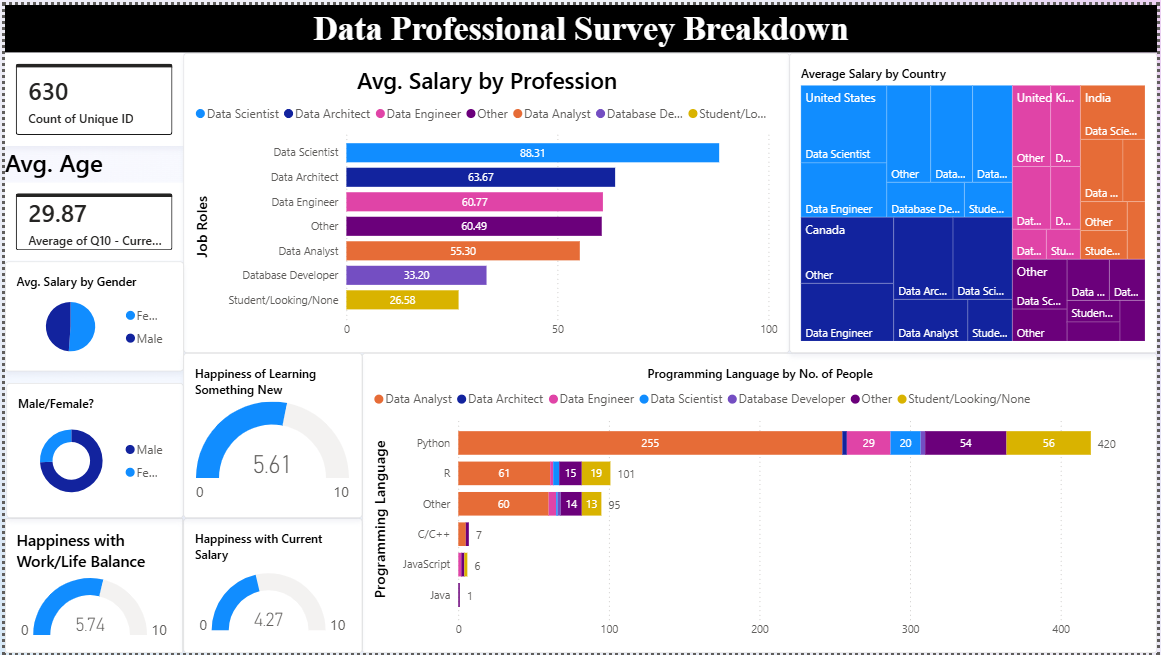

The dashboard page shown, as its layout file describes it:
{"tool":"powerbi","page":{"name":"Page 1","canvas":[1280,720],"ordinal":0},"visuals":[{"type":"textbox","box":[0,0,1280,52.9],"z":0},{"type":"cardVisual","fields":{"Data":["Count(Data Professional Survey.Unique ID)"]},"box":[0,53.3,198.3,103.3],"z":1000},{"type":"cardVisual","title":"Avg. Age","fields":{"Data":["Avg(Data Professional Survey.Q10 - Current Age)"]},"box":[0,156.7,198.3,128.3],"z":2000},{"type":"barChart","title":"Avg. Salary by Profession","fields":{"Category":["Data Professional Survey.Q1 - Which Title Best Fits your Current Role?.1"],"Y":["Avg(Data Professional Survey.Avg. Salary)"],"Series":["Data Professional Survey.Q1 - Which Title Best Fits your Current Role?.1"]},"box":[198.3,53.3,673.3,333.3],"z":3000},{"type":"barChart","title":"Programming Language by No. of People","fields":{"Category":["Data Professional Survey.Q5 - Favorite Programming Language.1"],"Y":["CountNonNull(Data Professional Survey.Unique ID)"],"Series":["Data Professional Survey.Q1 - Which Title Best Fits your Current Role?.1"]},"box":[396.7,386.7,883.3,333.3],"z":3001},{"type":"treemap","title":"Average Salary by Country","fields":{"Group":["Data Professional Survey.Q11 - Which Country do you live in?.1"],"Details":["Data Professional Survey.Q1 - Which Title Best Fits your Current Role?.1"],"Values":["Avg(Data Professional Survey.Avg. Salary)"]},"box":[871.7,53.3,408.3,333.3],"z":3002},{"type":"gauge","title":"Happiness with Work/Life Balance","fields":{"MaxValue":["Max(Data Professional Survey.Q6 - How Happy are you in your Current Position with the following? (Work/Life Balance))"],"Y":["Avg(Data Professional Survey.Q6 - How Happy are you in your Current Position with the following? (Work/Life Balance))"],"MinValue":["Min(Data Professional Survey.Q6 - How Happy are you in your Current Position with the following? (Work/Life Balance))"]},"box":[0,570,198.3,150],"z":3003},{"type":"gauge","title":"Happiness  with Current Salary","fields":{"Y":["Avg(Data Professional Survey.Q6 - How Happy are you in your Current Position with the following? (Salary))"],"MinValue":["Min(Data Professional Survey.Q6 - How Happy are you in your Current Position with the following? (Salary))"],"MaxValue":["Max(Data Professional Survey.Q6 - How Happy are you in your Current Position with the following? (Salary))1"]},"box":[198.3,570,198.3,150],"z":3004},{"type":"donutChart","title":"Male/Female?","fields":{"Y":["CountNonNull(Data Professional Survey.Q9 - Male/Female?)"],"Category":["Data Professional Survey.Q9 - Male/Female?"]},"box":[1.7,420,196.7,150],"z":3005},{"type":"pieChart","title":"Avg. Salary by Gender","fields":{"Category":["Data Professional Survey.Q9 - Male/Female?"],"Y":["Avg(Data Professional Survey.Avg. Salary)"]},"box":[0,285,198.3,121.7],"z":3006},{"type":"gauge","title":"Happiness of Learning Something New","fields":{"Y":["Avg(Data Professional Survey.Q6 - How Happy are you in your Current Position with the following? (Learning New Things))"],"MinValue":["Min(Data Professional Survey.Q6 - How Happy are you in your Current Position with the following? (Learning New Things))"],"MaxValue":["Max(Data Professional Survey.Q6 - How Happy are you in your Current Position with the following? (Learning New Things))"]},"box":[198.3,386.7,198.3,183.3],"z":3007}]}

Visuals, with their boxes in screenshot pixels (x1, y1, x2, y2), scaled from the page's 1280x720 canvas onto the 1161x655 screenshot:
textbox: 0 0 1160 48
cardVisual - Count(Data Professional Survey.Unique ID): 0 48 180 142
"Avg. Age" cardVisual: 0 143 180 259
"Avg. Salary by Profession" barChart: 180 48 791 352
"Programming Language by No. of People" barChart: 360 352 1160 654
"Average Salary by Country" treemap: 791 48 1160 352
"Happiness with Work/Life Balance" gauge: 0 519 180 654
"Happiness  with Current Salary" gauge: 180 519 360 654
"Male/Female?" donutChart: 2 382 180 519
"Avg. Salary by Gender" pieChart: 0 259 180 370
"Happiness of Learning Something New" gauge: 180 352 360 519
